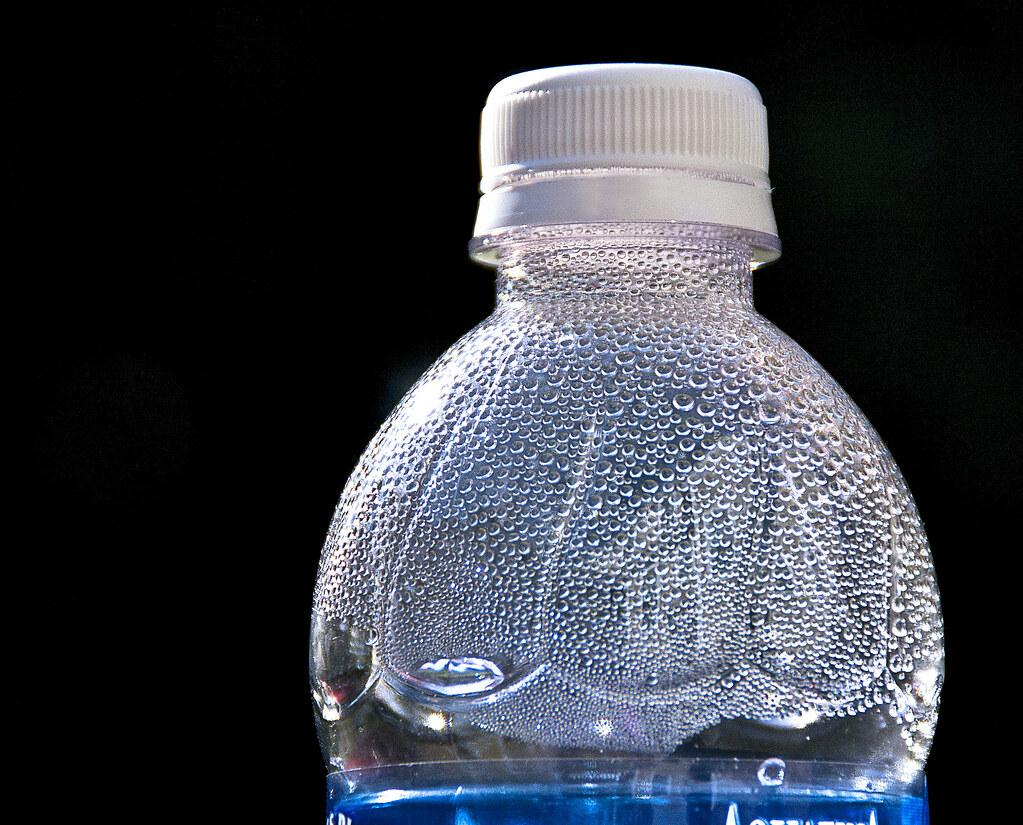bottle: (308, 62, 947, 824)
